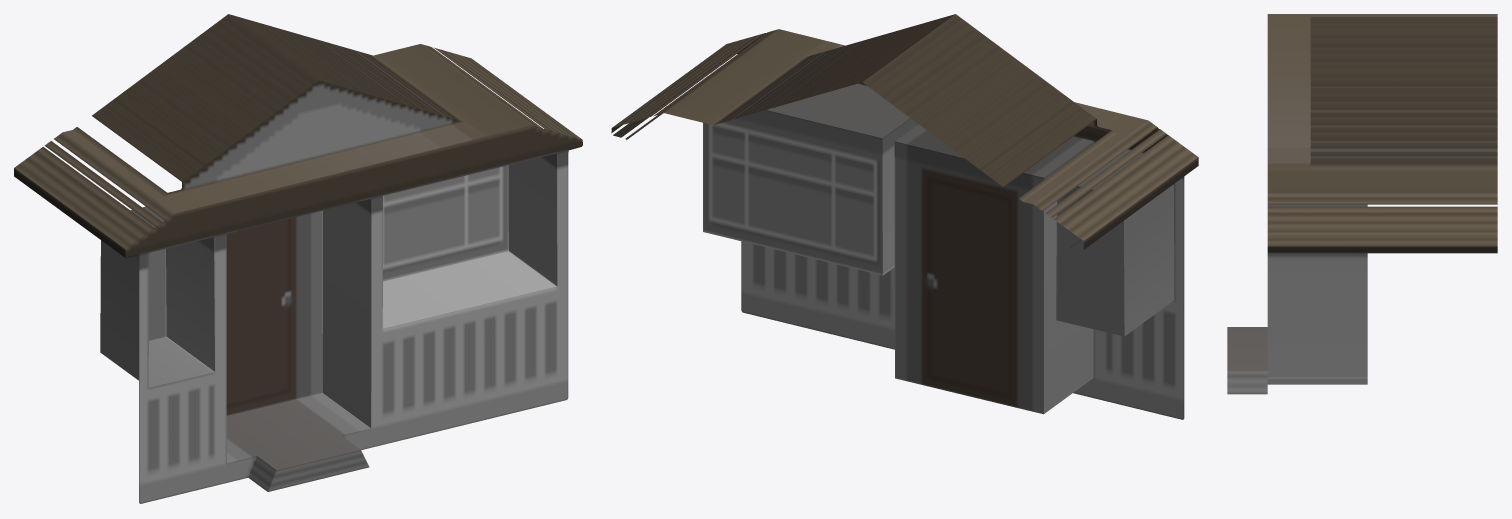
Rendered from RandomHouse1.fbx.
The picture shows the model from 3 angles, left to right: view 1: azimuth 30°, elevation 25°; view 2: azimuth 150°, elevation 25°; view 3: azimuth 270°, elevation 25°; orthographic projection. The views are drawn at different scales.
Visible parts, largest first — view 1: Plane.005; view 2: Plane.005; view 3: Plane.005.
Part boxes in pixels (bbox=[...]): Plane.005: bbox=[14, 14, 582, 503]; Plane.005: bbox=[611, 14, 1198, 419]; Plane.005: bbox=[1227, 14, 1497, 394].
Size of the model in its own units: 4011 by 3019 by 1987.
Materials: 1 (1 with a texture image).
